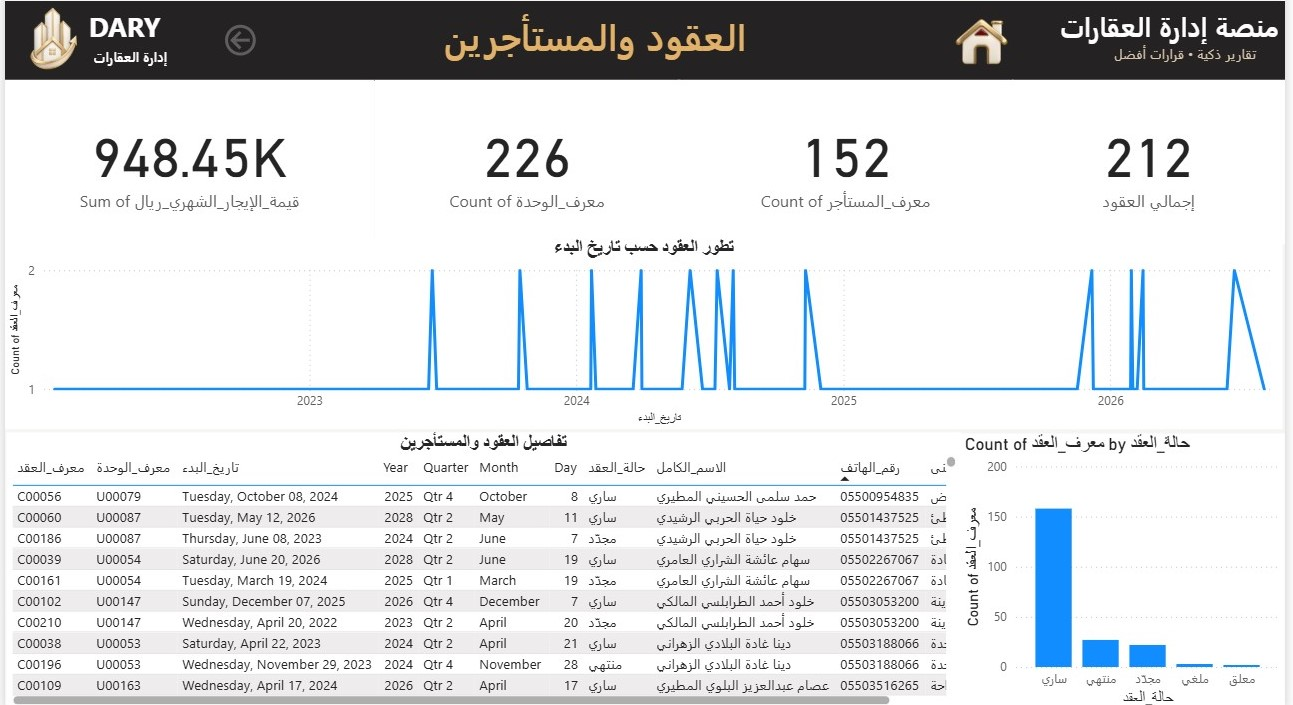

The dashboard page shown, as its layout file describes it:
{"tool":"powerbi","page":{"name":"العقود والمستأجرون","canvas":[1280,720],"ordinal":6},"visuals":[{"type":"shape","box":[0,10,2000,80.2],"z":0},{"type":"textbox","box":[1007.9,12.4,272.1,71.4],"z":1000},{"type":"textbox","box":[1072.3,49.4,183.8,49.4],"z":2000},{"type":"textbox","box":[78.3,11.9,187.2,52.8],"z":3000},{"type":"textbox","box":[76.6,37.4,188.9,52.8],"z":4000},{"type":"image","box":[0,10.2,95.3,76.6],"z":5000},{"type":"actionButton","box":[214.5,28.9,100.4,40.9],"z":6000},{"type":"textbox","box":[432.3,15.3,314.9,71.5],"z":7000},{"type":"card","fields":{"Values":["Fact_Contract.إجمالي العقود"]},"box":[1007.5,89.2,272.5,165],"z":8000},{"type":"card","fields":{"Values":["Count(Dim_Tenant.معرف_المستأجر)"]},"box":[673.8,88.8,334.5,165],"z":9000},{"type":"card","fields":{"Values":["Count(Dim_Unit.معرف_الوحدة)"]},"box":[370.2,88.8,305,165],"z":10000},{"type":"card","fields":{"Values":["Sum(Fact_Contract.قيمة_الإيجار_الشهري_ريال)"]},"box":[0,88.8,369.7,165],"z":11000},{"type":"lineClusteredColumnComboChart","fields":{"Category":["Fact_Contract.حالة_العقد"],"Y":["Count(Fact_Contract.معرف_العقد)"]},"box":[955,442.5,325,277.5],"z":12000},{"type":"lineChart","title":"تطور العقود حسب تاريخ البدء","fields":{"Category":["Fact_Contract.تاريخ_البدء"],"Y":["Count(Fact_Contract.معرف_العقد)"]},"box":[0,246.8,1277.5,192],"z":13000},{"type":"tableEx","title":"تفاصيل العقود والمستأجرين","fields":{"Values":["Fact_Contract.معرف_العقد","Fact_Contract.معرف_الوحدة","Fact_Contract.تاريخ_البدء","Fact_Contract.تاريخ_الانتهاء.Variation.Date Hierarchy.Year","Fact_Contract.تاريخ_الانتهاء.Variation.Date Hierarchy.Quarter","Fact_Contract.تاريخ_الانتهاء.Variation.Date Hierarchy.Month","Fact_Contract.تاريخ_الانتهاء.Variation.Date Hierarchy.Day","Fact_Contract.حالة_العقد","Dim_Tenant.الاسم_الكامل","Dim_Tenant.رقم_الهاتف","Dim_Building.اسم_المبنى"]},"box":[1.2,441.2,954.3,277.5],"z":14000},{"type":"image","box":[926.2,7.5,101.2,86.2],"z":15000}]}

Visuals, with their boxes on the page's 1280x720 design canvas (x1, y1, x2, y2). These are canvas units, not pixel positions in the 1293x705 screenshot, which may show the page scaled, cropped or inside an application window:
shape: select_region(0, 10, 2000, 90)
textbox: select_region(1008, 12, 1280, 84)
textbox: select_region(1072, 49, 1256, 99)
textbox: select_region(78, 12, 266, 65)
textbox: select_region(77, 37, 266, 90)
image: select_region(0, 10, 95, 87)
actionButton: select_region(214, 29, 315, 70)
textbox: select_region(432, 15, 747, 87)
card - Fact_Contract.إجمالي العقود: select_region(1008, 89, 1280, 254)
card - Count(Dim_Tenant.معرف_المستأجر): select_region(674, 89, 1008, 254)
card - Count(Dim_Unit.معرف_الوحدة): select_region(370, 89, 675, 254)
card - Sum(Fact_Contract.قيمة_الإيجار_الشهري_ريال): select_region(0, 89, 370, 254)
lineClusteredColumnComboChart - Fact_Contract.حالة_العقد x Count(Fact_Contract.معرف_العقد): select_region(955, 442, 1280, 720)
"تطور العقود حسب تاريخ البدء" lineChart: select_region(0, 247, 1278, 439)
"تفاصيل العقود والمستأجرين" tableEx: select_region(1, 441, 956, 719)
image: select_region(926, 8, 1027, 94)
